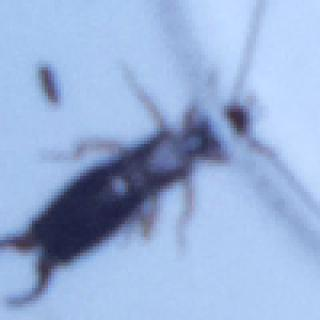earwig: (0, 0, 318, 308)
